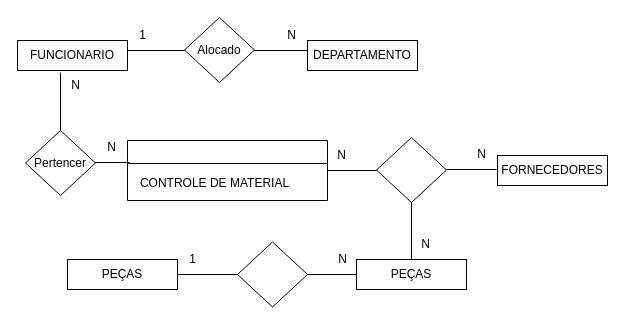
The diagram is 625 pixels wide and 325 high, and some of its shapes have lost their labels. Each missing label, with the box of its shape:
Ter: (236, 241, 308, 307)
Utilizar: (376, 136, 446, 202)
Vertical Container: (126, 140, 328, 200)
